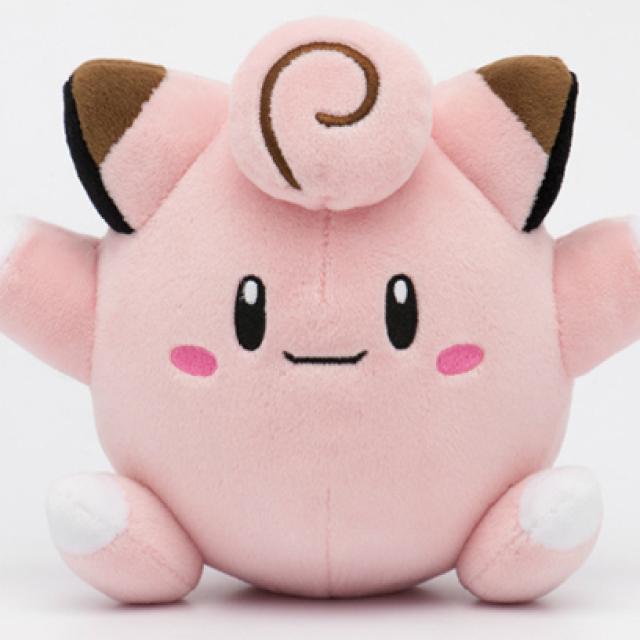Clefairy: (56, 38, 581, 607)
